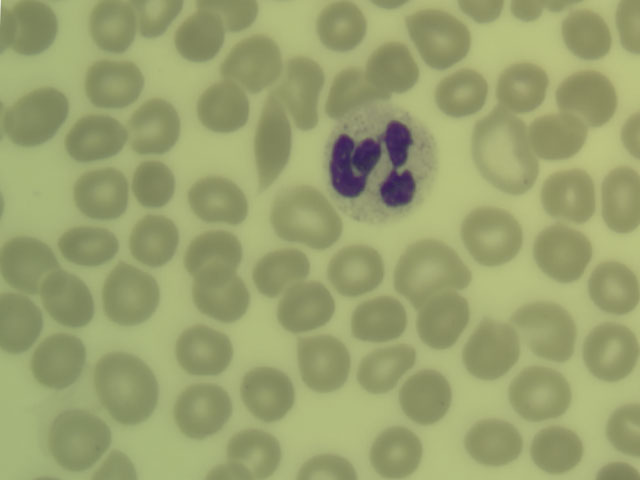RBC: (92, 351, 165, 417), (393, 241, 471, 298), (512, 300, 578, 362), (536, 7, 613, 57), (251, 97, 294, 183), (1, 87, 67, 143), (481, 115, 527, 195), (404, 9, 470, 64), (557, 69, 617, 128), (464, 205, 522, 264), (272, 184, 332, 241), (49, 408, 107, 465), (106, 265, 162, 324), (584, 322, 639, 381), (294, 339, 355, 392), (325, 244, 386, 294), (240, 367, 296, 421), (185, 175, 249, 221), (281, 58, 324, 126), (511, 366, 566, 419), (431, 68, 491, 116), (69, 172, 130, 219), (1, 235, 55, 288), (193, 81, 249, 132), (173, 327, 235, 373), (534, 226, 586, 280), (402, 368, 454, 421), (463, 416, 517, 467), (367, 427, 424, 475), (467, 320, 514, 378), (227, 428, 287, 472), (417, 296, 468, 347), (543, 172, 597, 220), (67, 116, 125, 160), (38, 332, 85, 386), (313, 4, 370, 48), (225, 37, 279, 83), (530, 426, 584, 472), (84, 62, 140, 106), (194, 270, 247, 316), (594, 259, 640, 311), (351, 297, 405, 340), (133, 102, 178, 153), (251, 253, 311, 291), (496, 64, 549, 107), (603, 168, 638, 233), (324, 68, 378, 110), (89, 2, 135, 51), (371, 43, 419, 89), (46, 275, 94, 321), (1, 296, 39, 353), (11, 2, 54, 52), (363, 343, 413, 386), (130, 216, 176, 261), (535, 116, 585, 157), (283, 286, 334, 326), (294, 452, 366, 480), (197, 1, 264, 31), (56, 230, 118, 262), (133, 162, 175, 205), (194, 228, 240, 267), (608, 403, 640, 457), (184, 16, 222, 61), (617, 1, 640, 55), (455, 1, 508, 24), (139, 1, 177, 33), (97, 452, 138, 479), (622, 108, 640, 168), (513, 1, 546, 24), (600, 464, 640, 480)
WBC: (326, 113, 438, 218)
